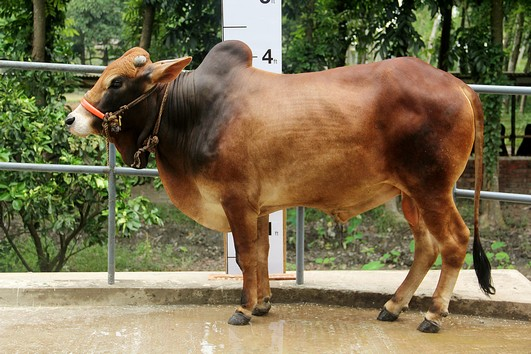cow: (58, 33, 491, 333)
